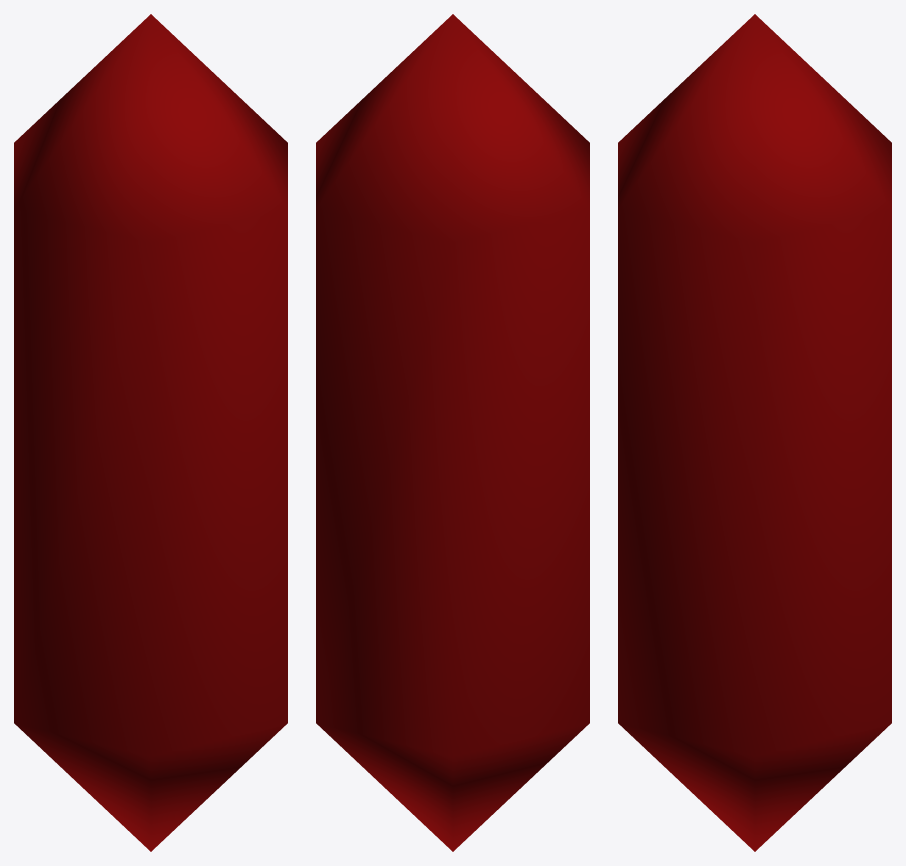
The model's file is hex_pyramid_dipyramid_term.fbx.
3 views of the same model, side by side, from view 1: azimuth 30°, elevation 25°; view 2: azimuth 150°, elevation 25°; view 3: azimuth 270°, elevation 25° (orthographic).
Visible parts, largest first — view 1: hex_prism_dipyramid_term:DXF_ROOT__Default; view 2: hex_prism_dipyramid_term:DXF_ROOT__Default; view 3: hex_prism_dipyramid_term:DXF_ROOT__Default.
Boxes of the visible parts, x1,y1,x2,y2 form: hex_prism_dipyramid_term:DXF_ROOT__Default: [14, 14, 287, 851]; hex_prism_dipyramid_term:DXF_ROOT__Default: [316, 14, 589, 851]; hex_prism_dipyramid_term:DXF_ROOT__Default: [618, 14, 891, 851].
Bounding box in the file's own units: 1.81 × 5.3 × 1.57.
